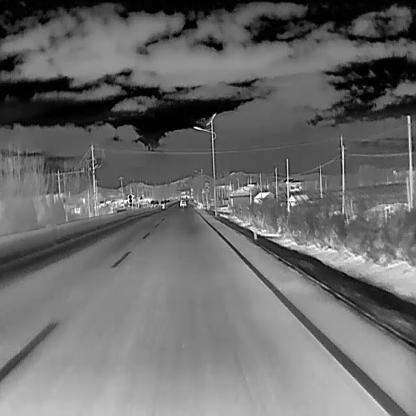car: (179, 199, 186, 207), (154, 199, 159, 206), (150, 199, 154, 206), (160, 200, 164, 206)
